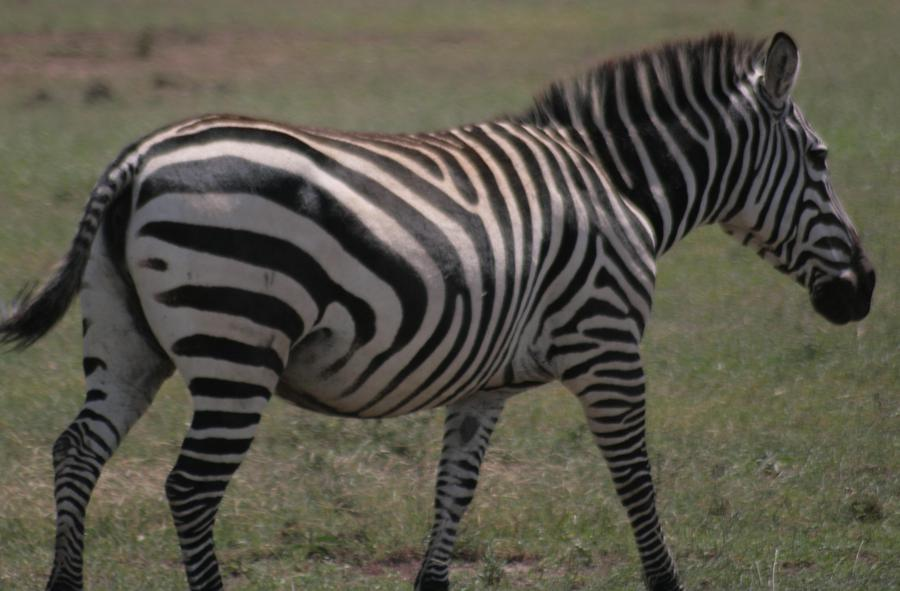zebra_plains: (168, 114, 640, 406)
